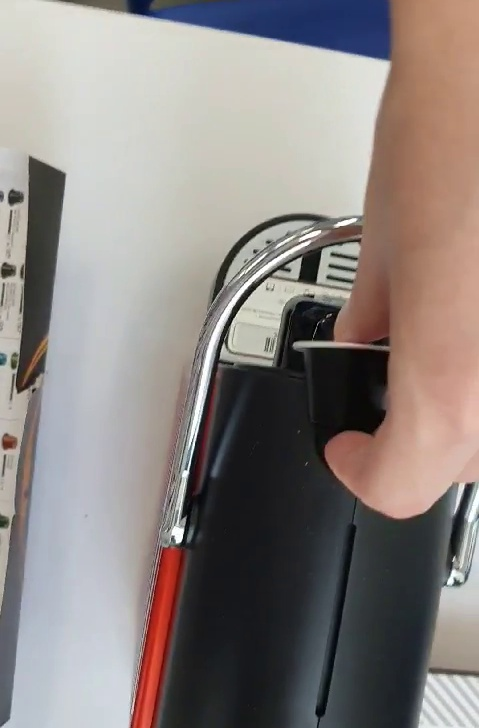capsule_10: (289, 334, 409, 453)
